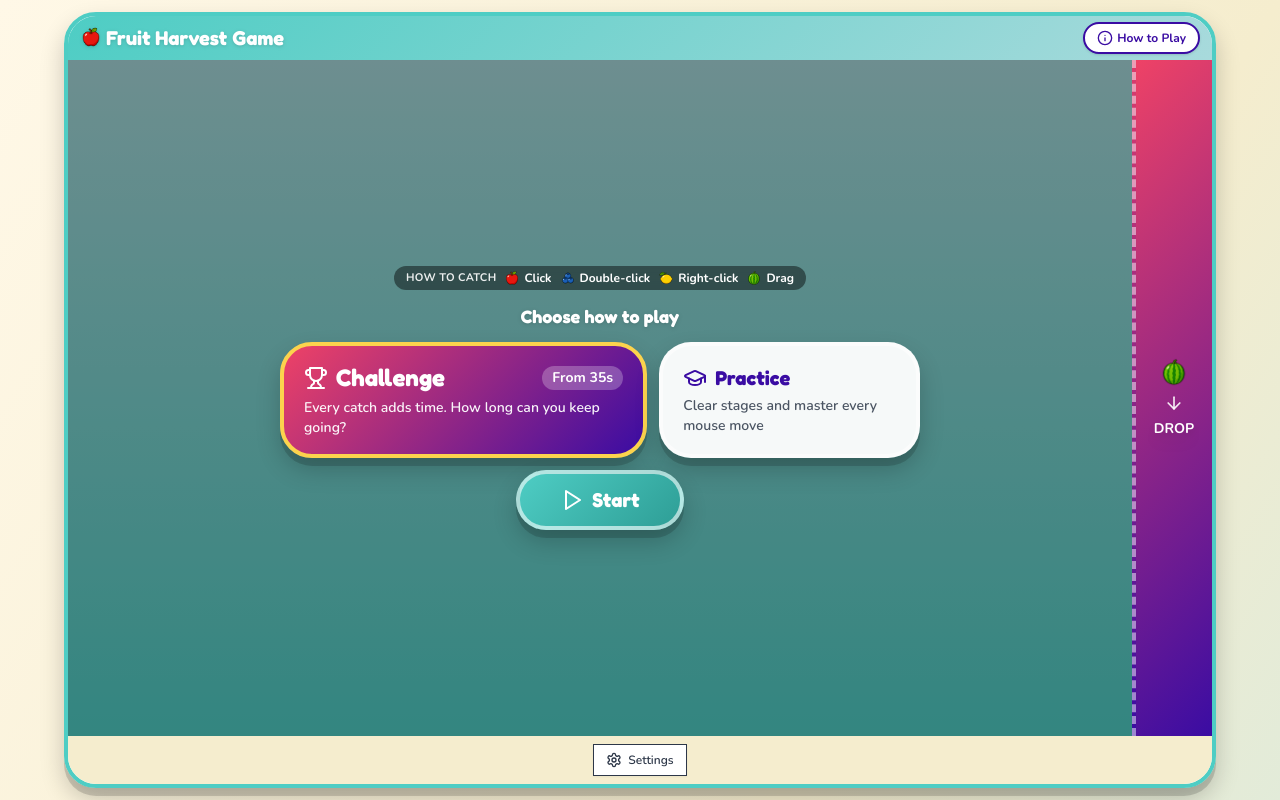
Internationalization (i18n) › Help Dialog Translations › should translate help dialog content in English
Click the button "How to Play" at point(1142, 38), box x1=1083 y1=22 x2=1200 y2=54
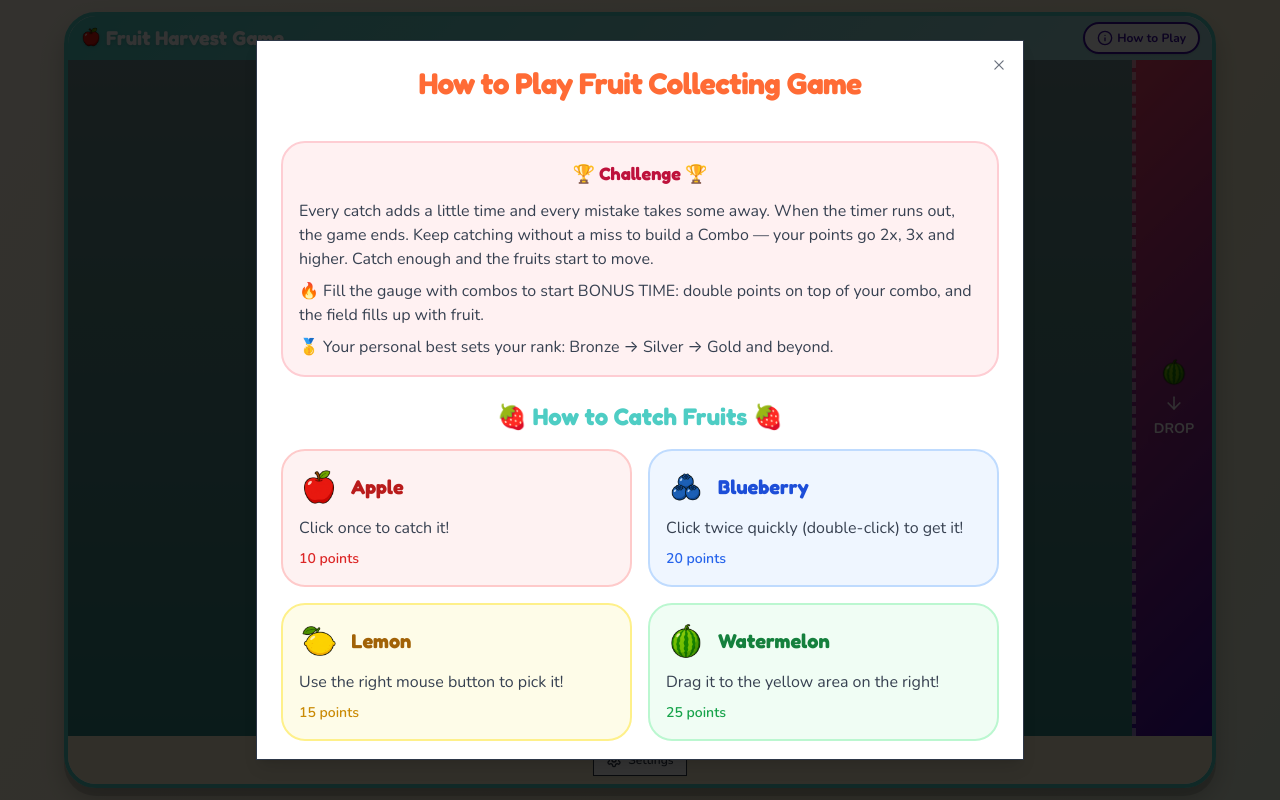
Check: the heading "How to Play Fruit Collecting Game" is shown, box x1=419 y1=65 x2=861 y2=101
Check: the heading "🍓 How to Catch Fruits 🍓" is shown, box x1=497 y1=402 x2=783 y2=431
Check: the text "Click once to catch it!" is shown, box x1=299 y1=517 x2=449 y2=539
